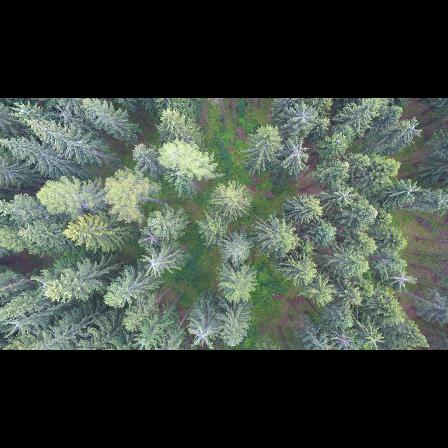Sick: (283, 137, 312, 170), (284, 101, 318, 129), (185, 324, 218, 350), (139, 224, 166, 250), (389, 266, 416, 292), (330, 186, 357, 211), (140, 252, 164, 279), (333, 330, 360, 350)
